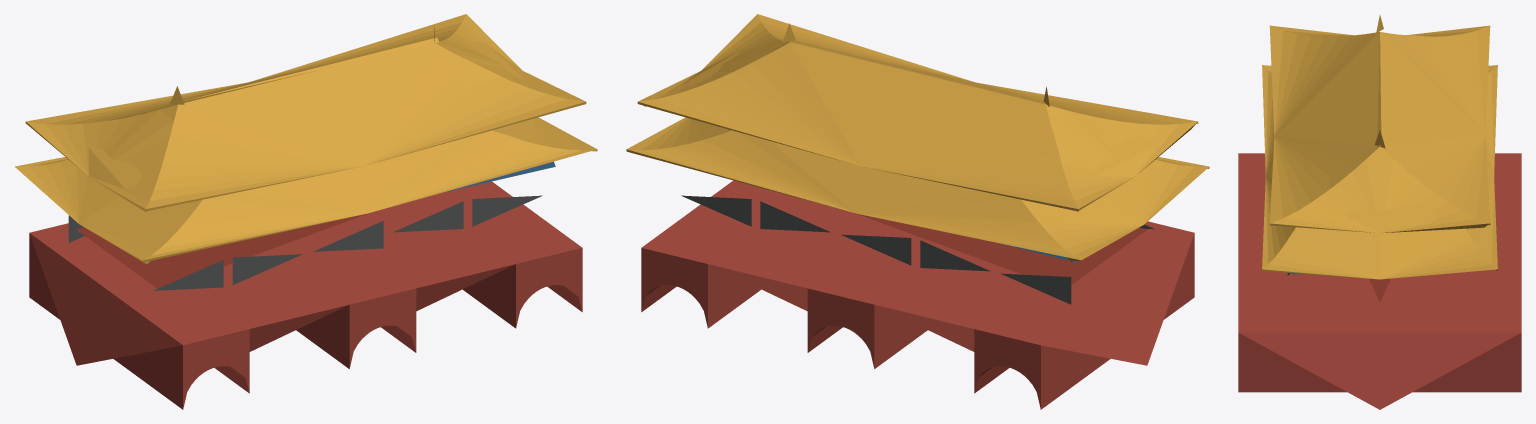
File: xihuamen-far-ec8302908c.glb
3 renders of one model, left to right at view 1: azimuth 30°, elevation 25°; view 2: azimuth 150°, elevation 25°; view 3: azimuth 270°, elevation 25°, orthographic. The views are drawn at different scales.
Parts seen in each view (by area): view 1: xihuamen coarse.001; view 2: xihuamen coarse.001; view 3: xihuamen coarse.001.
Part boxes in pixels (x1,y1,x2,y2): xihuamen coarse.001: (15, 14, 597, 409); xihuamen coarse.001: (626, 14, 1209, 409); xihuamen coarse.001: (1238, 15, 1521, 409).
Size of the model in its own units: 41.33 by 25 by 24.
